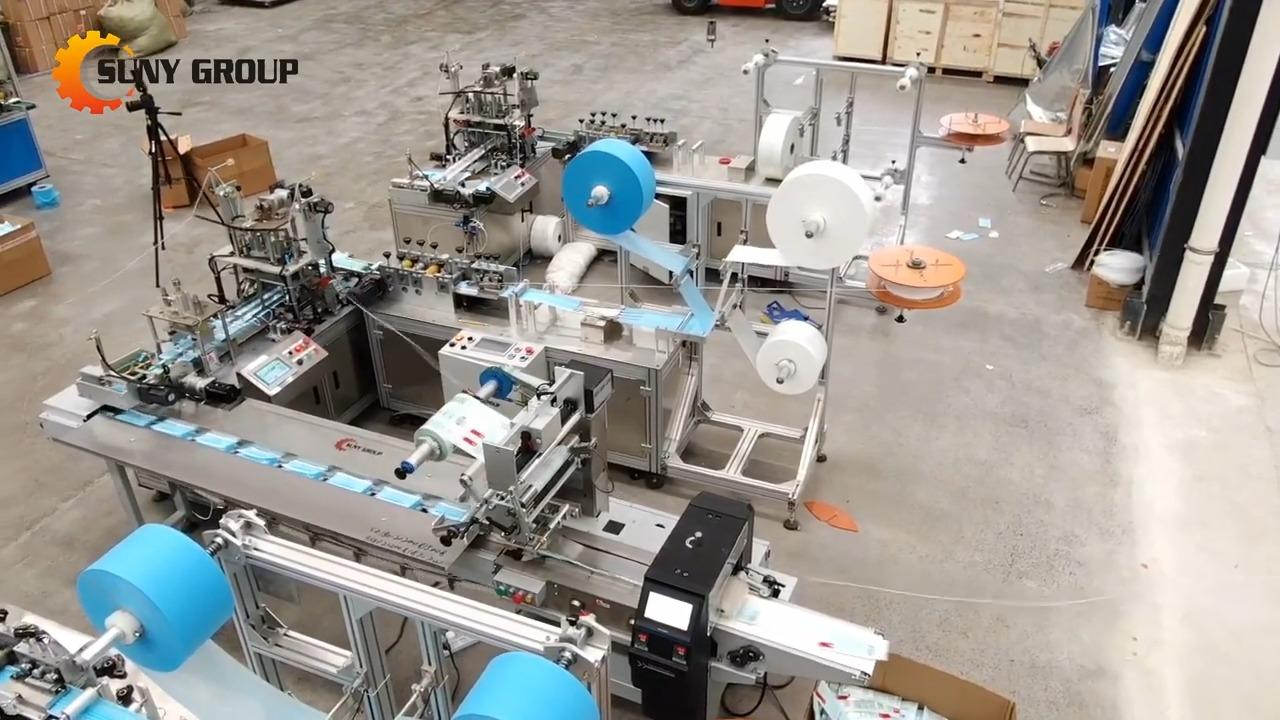mask: (374, 484, 423, 511), (278, 457, 327, 481), (326, 471, 374, 495), (192, 430, 243, 451), (115, 407, 158, 428), (150, 418, 196, 437), (236, 445, 284, 461)
